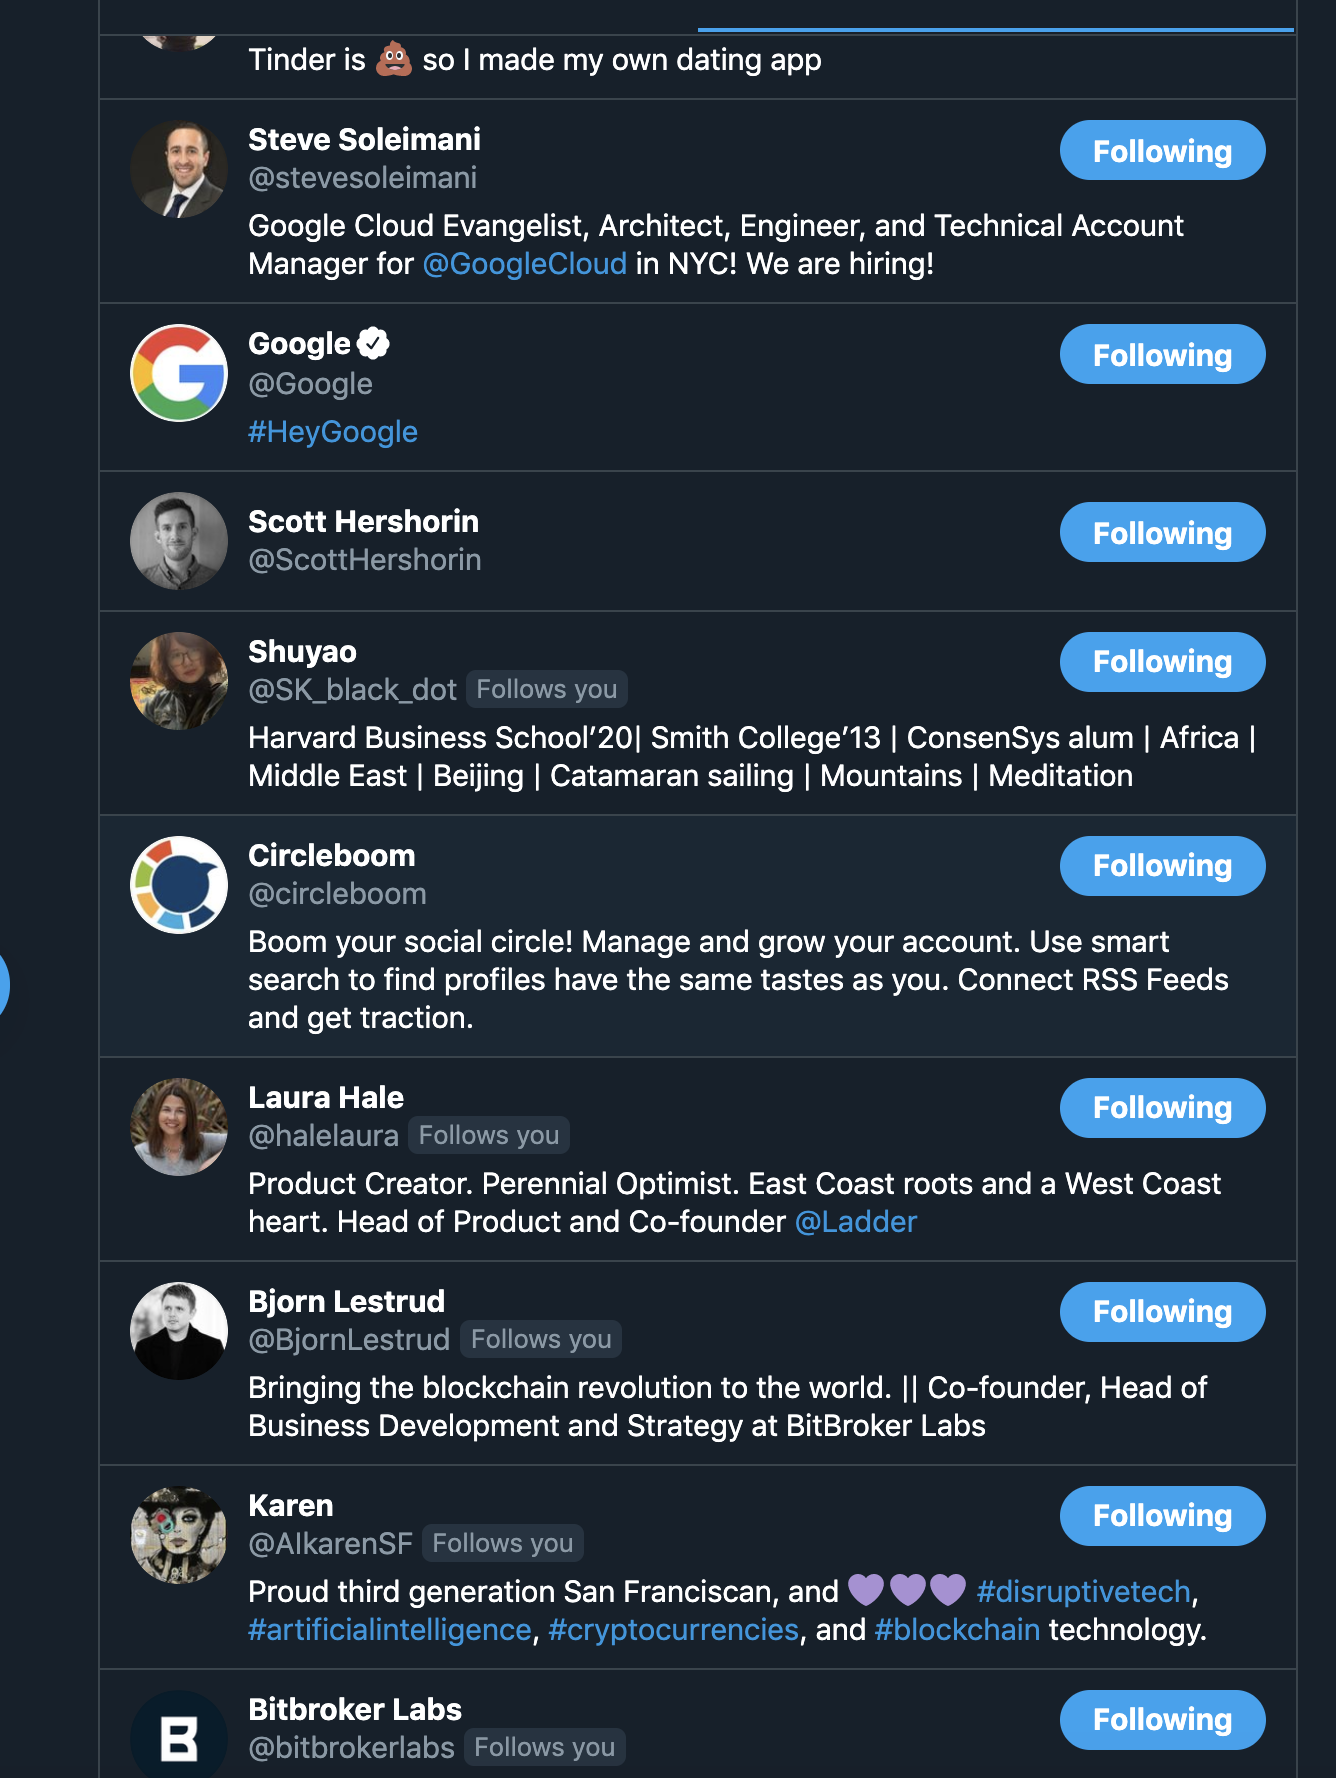following button: (1055, 1270, 1271, 1351), (1055, 1072, 1277, 1147), (1060, 829, 1271, 907), (1060, 494, 1266, 570), (1062, 1480, 1273, 1553), (1053, 1683, 1270, 1751), (1055, 629, 1266, 697), (1058, 119, 1262, 182), (1055, 326, 1269, 385)
